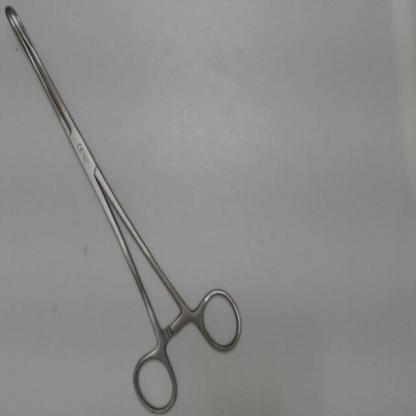Sponge Forceps: (1, 2, 246, 414)
